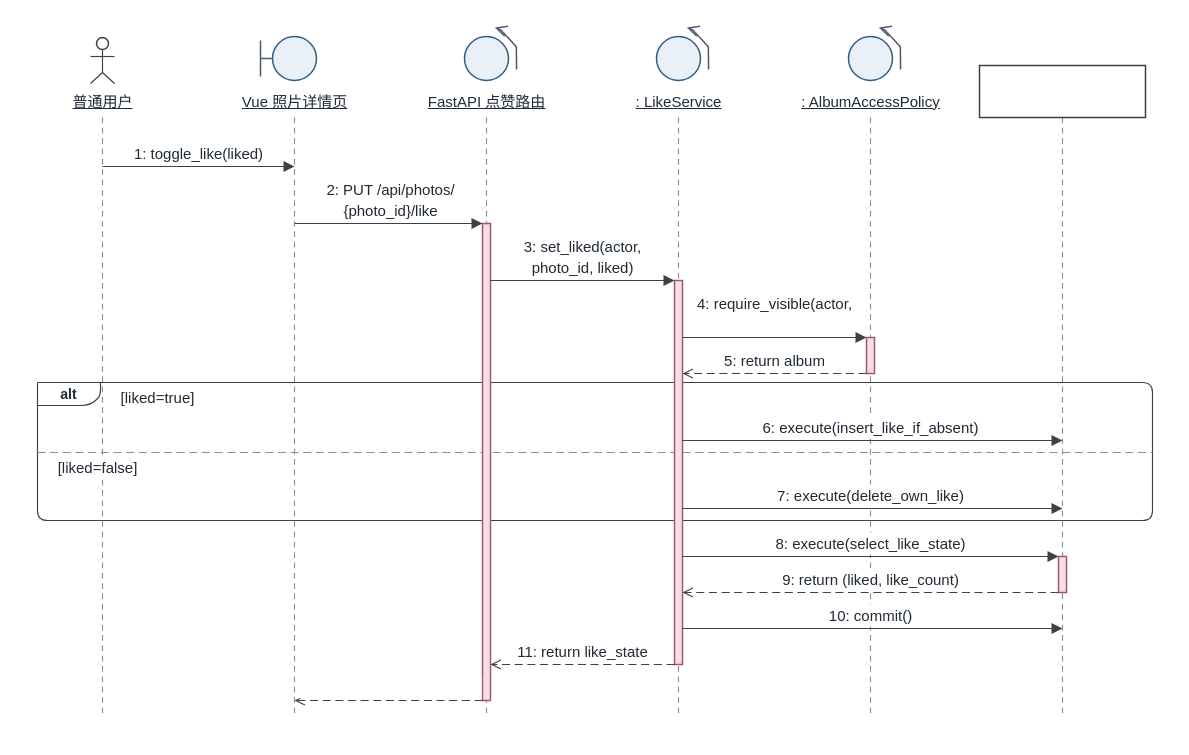
Some shapes in this 1189 by 755 pixel diagram are drawn without their labels. The box of each missing label's shape, as (x1, y1, x2, y2) in pixels:
12: return 200 LikeState: (299, 676, 481, 698)
: Session SQLAlchemy: (978, 64, 1146, 118)
album_id): (732, 313, 816, 335)
